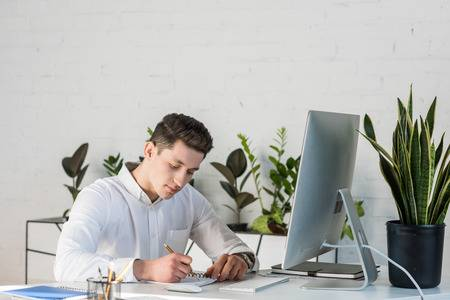F_shirt: (55, 162, 255, 281)
